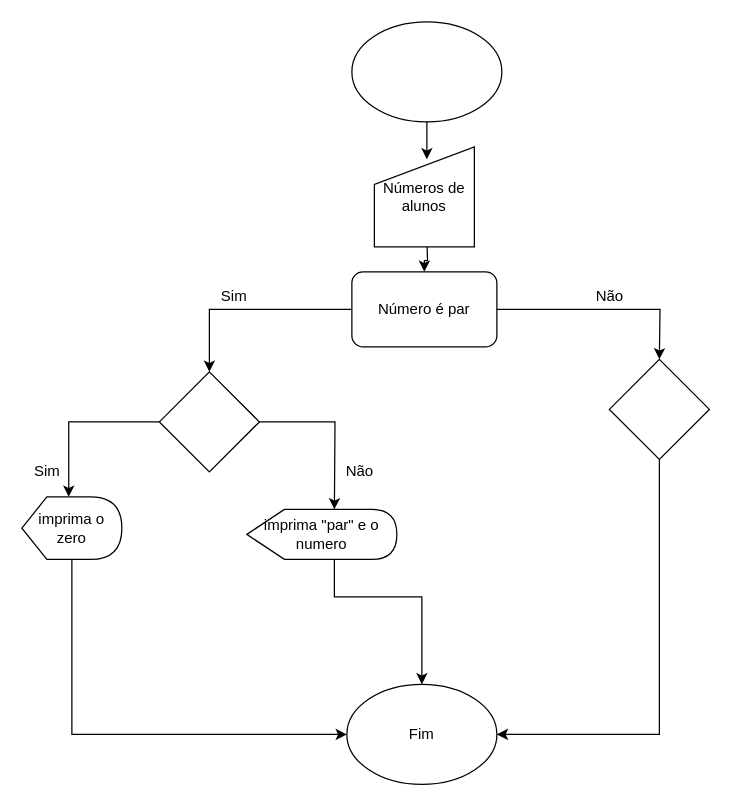
Some shapes in this 731 by 806 pixel diagram are drawn without their labels. Here are the shapes that lost their labels. From the top down, the box of each, then its label:
(351, 21, 502, 122): Inicio
(158, 371, 259, 472): o número é zero?
(608, 358, 709, 459): Imprima "ímpar" e o número
